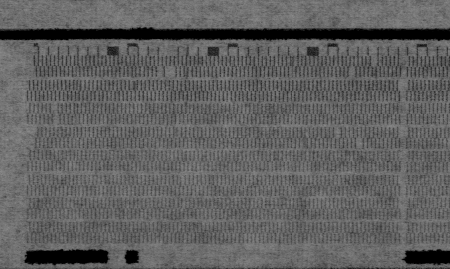Broken hole: (24, 126, 40, 150), (25, 54, 39, 81), (49, 101, 63, 125), (155, 65, 178, 77), (331, 127, 344, 140), (369, 55, 381, 68), (354, 137, 366, 150), (347, 65, 358, 78)
